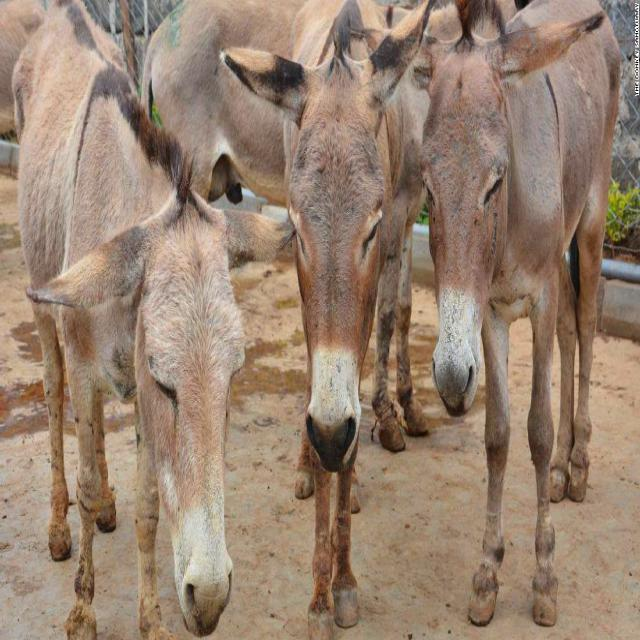donkey: (12, 0, 292, 639), (219, 0, 435, 639), (413, 0, 618, 626)
